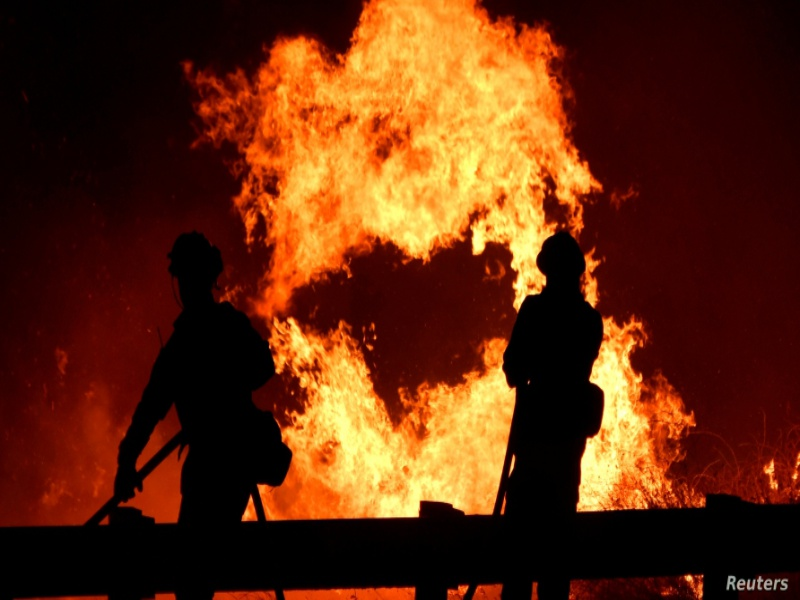fire: (232, 8, 692, 517)
